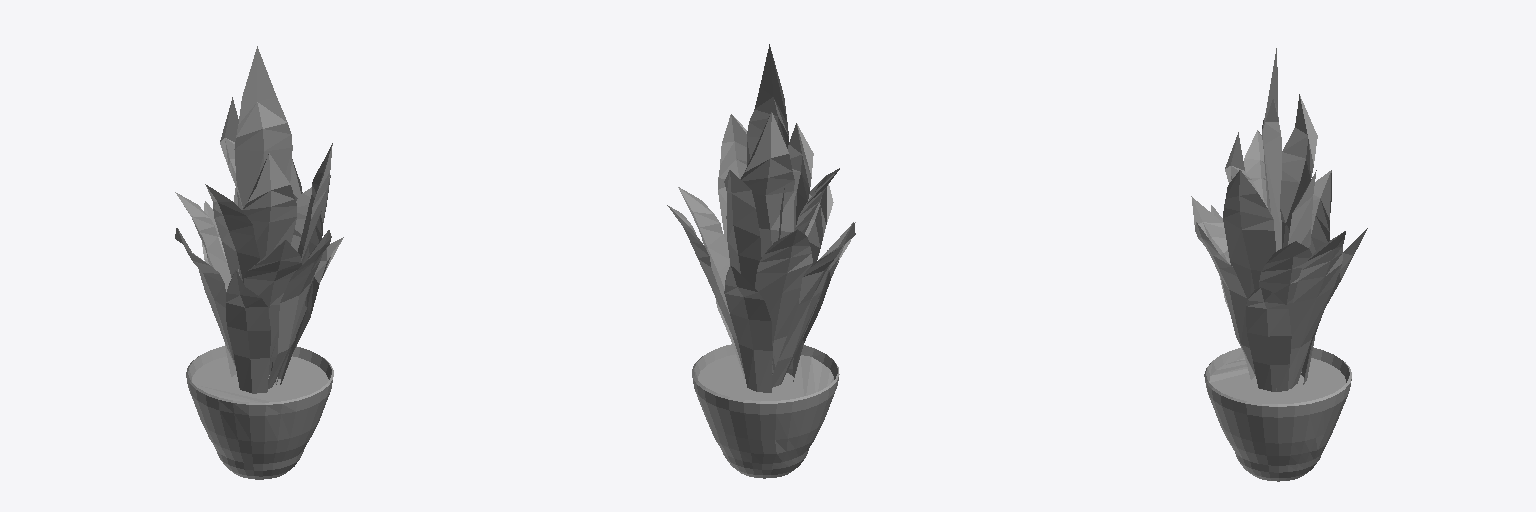
Rendered from SnakePlant.obj.
3 renders of one model, left to right at view 1: azimuth 30°, elevation 25°; view 2: azimuth 150°, elevation 25°; view 3: azimuth 270°, elevation 25°, orthographic.
Parts seen in each view (by area): view 1: Plane.013_Plane.042, Pods_Nr.000_Cube.013; view 2: Plane.013_Plane.042, Pods_Nr.000_Cube.013; view 3: Plane.013_Plane.042, Pods_Nr.000_Cube.013.
Boxes of the visible parts, x1,y1,x2,y2 form: Plane.013_Plane.042: [175, 46, 343, 393]; Pods_Nr.000_Cube.013: [186, 346, 333, 479]; Plane.013_Plane.042: [667, 44, 855, 392]; Pods_Nr.000_Cube.013: [692, 344, 839, 478]; Plane.013_Plane.042: [1191, 48, 1367, 391]; Pods_Nr.000_Cube.013: [1204, 347, 1351, 481].
Bounding box in the file's own units: 0.5069 × 1.24 × 0.4701.